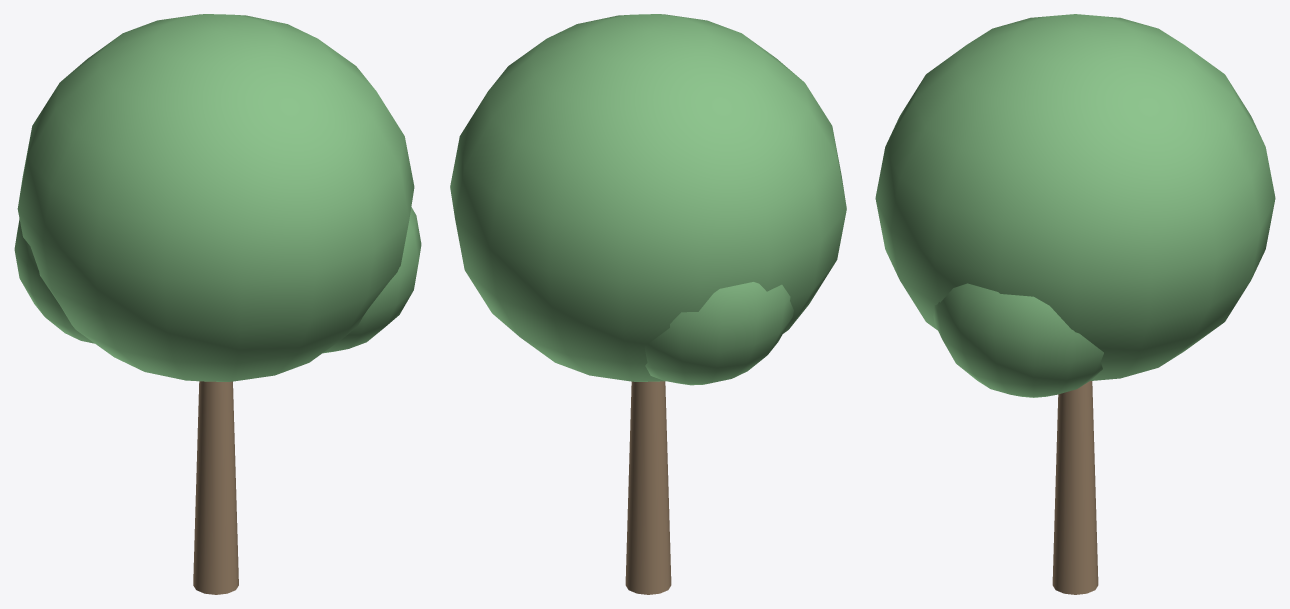
The model's file is deciduous-tree.glb.
3 views of the same model, side by side, from view 1: azimuth 30°, elevation 25°; view 2: azimuth 150°, elevation 25°; view 3: azimuth 270°, elevation 25° (orthographic).
Visible parts, largest first — view 1: Crown (×3), Trunk; view 2: Crown (×2), Trunk; view 3: Crown (×2), Trunk.
Part boxes in pixels (x1,y1,x2,y2): Crown (×3): [14, 14, 421, 381]; Trunk: [193, 381, 238, 594]; Crown (×2): [450, 14, 846, 385]; Trunk: [625, 381, 671, 594]; Crown (×2): [875, 14, 1275, 397]; Trunk: [1052, 381, 1098, 594].
Size of the model in its own units: 3.84 by 5.86 by 3.84.
